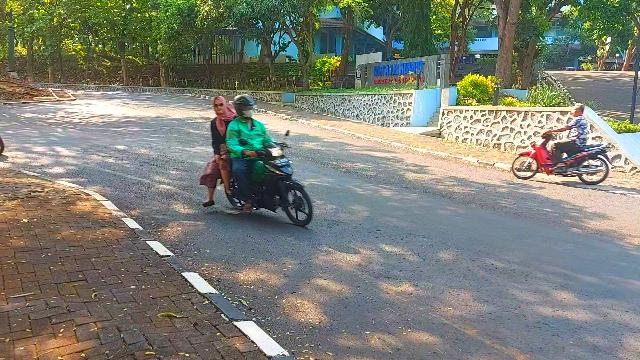helm: (235, 96, 258, 119)
motor: (221, 131, 314, 228), (513, 128, 617, 186)
non-helm: (215, 97, 228, 115), (573, 105, 586, 118)
